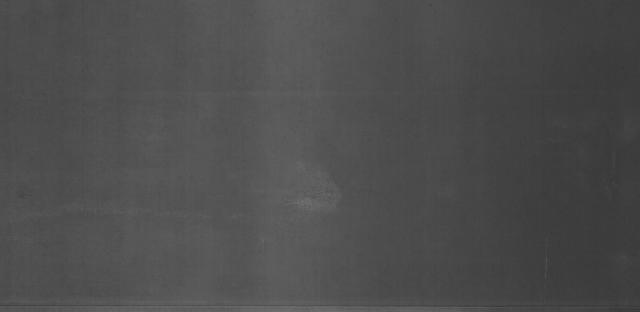welding_line: (2, 295, 637, 312)
